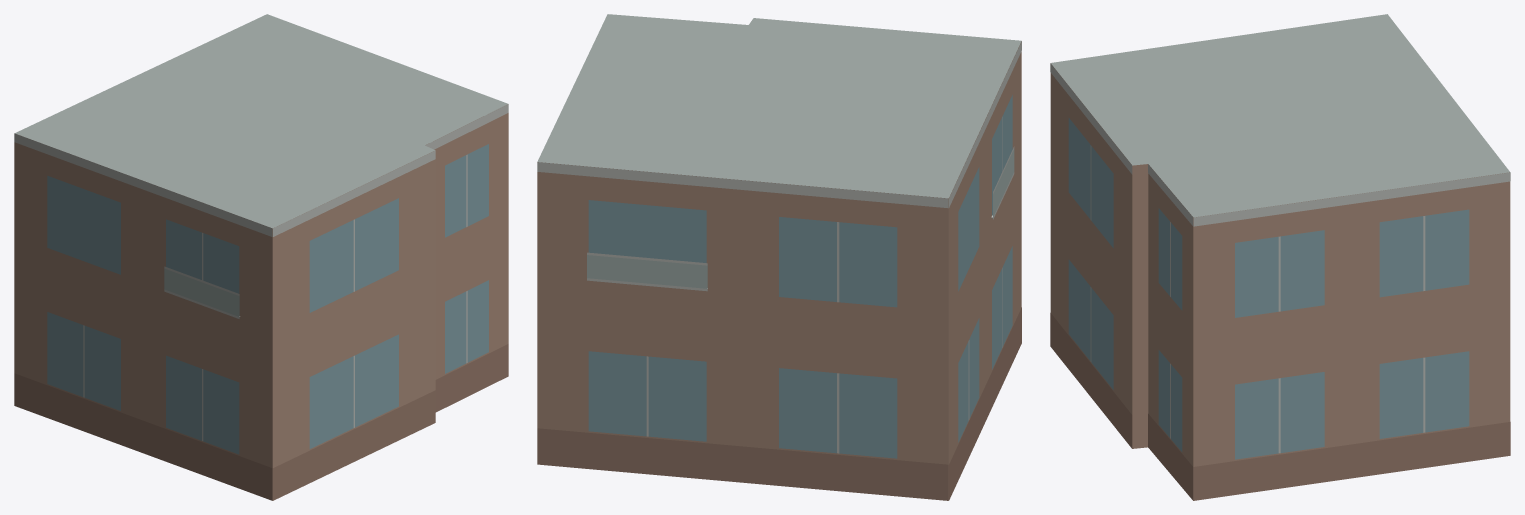
File: survey-upis-32960626.glb
3 renders of one model, left to right at view 1: azimuth 30°, elevation 25°; view 2: azimuth 150°, elevation 25°; view 3: azimuth 270°, elevation 25°, orthographic. The views are drawn at different scales.
Visible parts, largest first — view 1: survey-upis-32960626.tmp; view 2: survey-upis-32960626.tmp; view 3: survey-upis-32960626.tmp.
Part boxes in pixels (box(x1,y1,x2,y2)): survey-upis-32960626.tmp: box(14, 14, 508, 500); survey-upis-32960626.tmp: box(537, 14, 1021, 500); survey-upis-32960626.tmp: box(1050, 14, 1510, 500).
Size of the model in its own units: 11.56 by 7.5 by 11.04.
